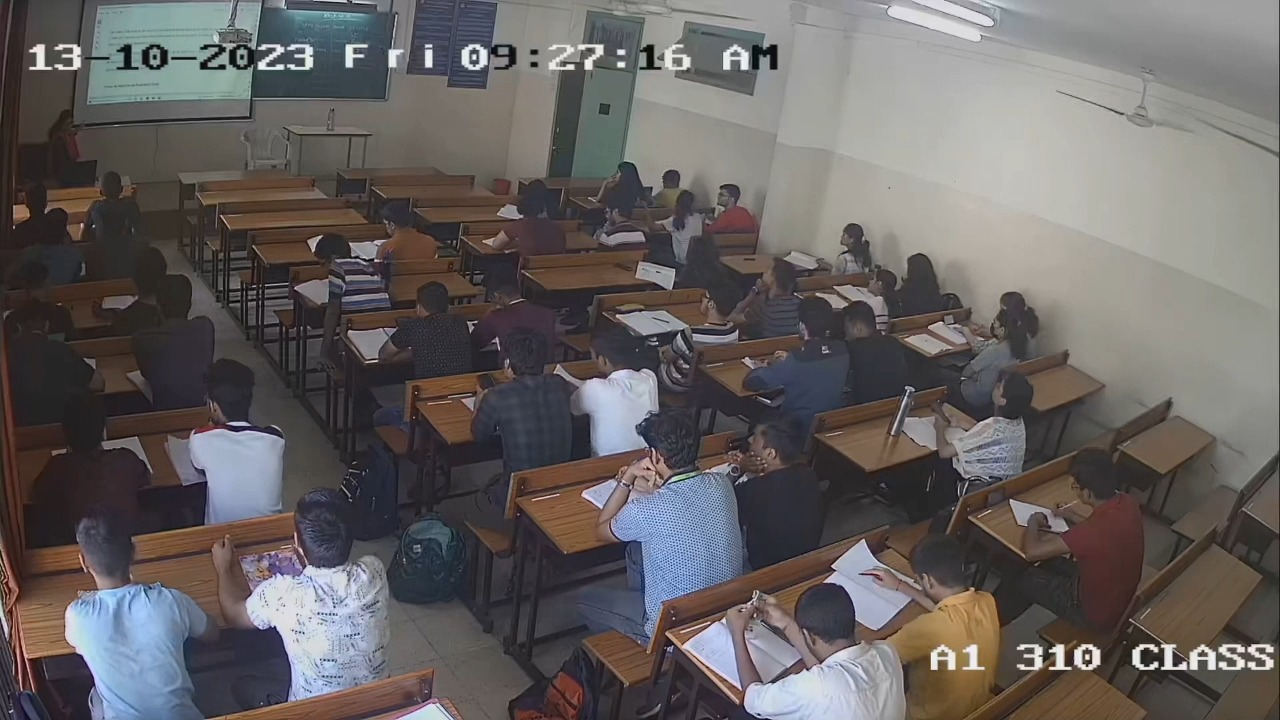cell-phones: (475, 371, 499, 394), (928, 400, 951, 424), (610, 300, 646, 315), (986, 487, 1006, 506), (395, 316, 414, 332), (613, 261, 634, 273), (943, 312, 956, 326)
person: (469, 326, 575, 474), (1058, 447, 1146, 594), (379, 281, 471, 378), (954, 376, 1032, 454), (670, 283, 742, 345), (963, 309, 1026, 378), (672, 233, 728, 289)
